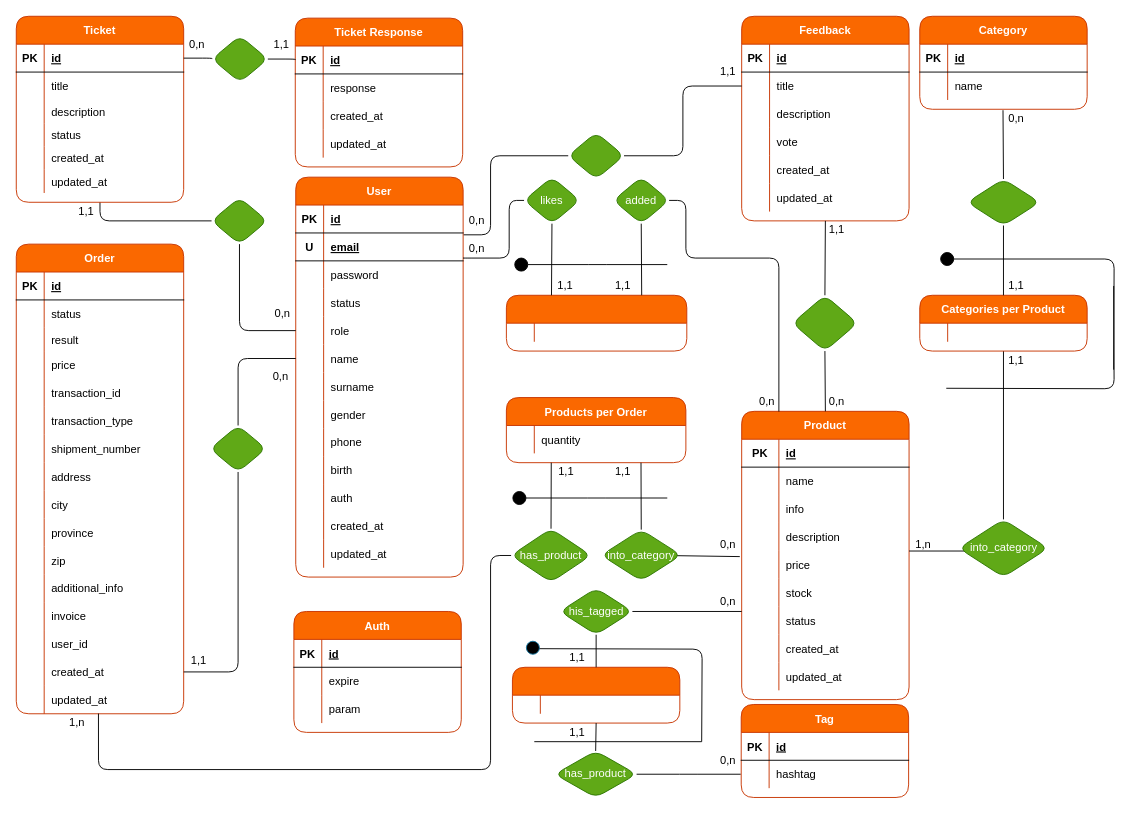
Image size: 1132x814. Some labels were removed from this diagram. The centre of each missing label's shape, as x and y in pixels:
afferents: (x=824, y=322)
has: (x=239, y=58)
has product: (x=1003, y=202)
leave: (x=595, y=155)
make: (x=237, y=448)
Tags per Product: (x=596, y=694)
Wishlist: (x=596, y=322)
wrote: (x=239, y=220)
